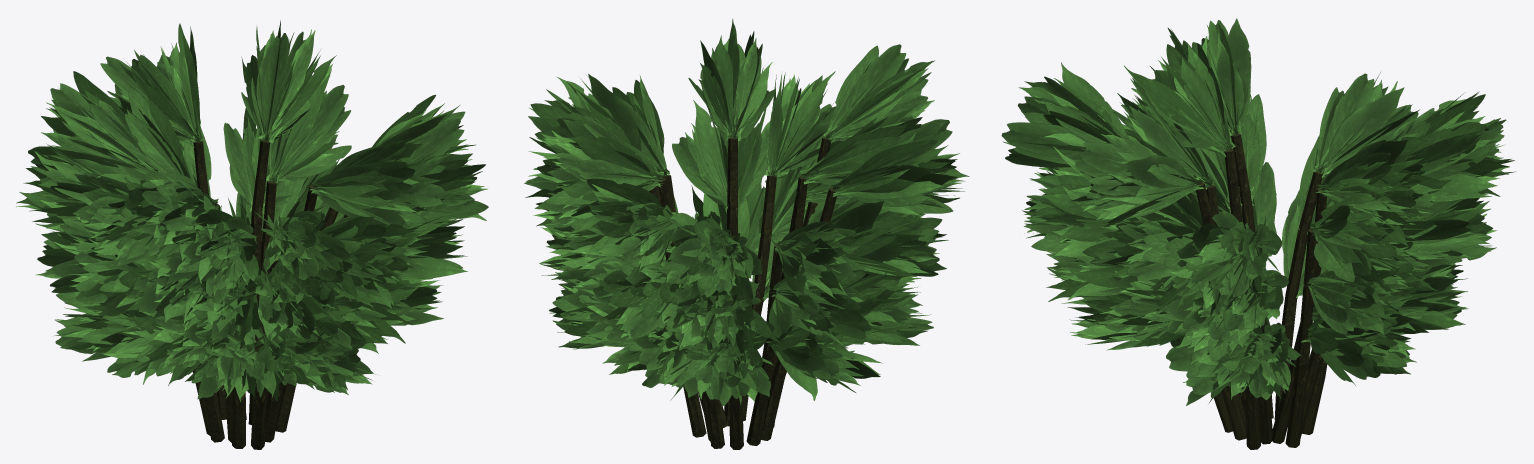
The model's file is understory_ginger_v01.glb.
3 views of the same model, side by side, from view 1: azimuth 30°, elevation 25°; view 2: azimuth 150°, elevation 25°; view 3: azimuth 270°, elevation 25° (orthographic). The views are drawn at different scales.
Visible parts, largest first — view 1: understory_ginger_v01; view 2: understory_ginger_v01; view 3: understory_ginger_v01.
Boxes of the visible parts, bbox=[...] form: understory_ginger_v01: bbox=[16, 20, 488, 449]; understory_ginger_v01: bbox=[524, 18, 969, 449]; understory_ginger_v01: bbox=[1001, 18, 1515, 449].
Bounding box in the file's own units: 1.24 × 0.9877 × 1.31.
2 materials, 2 textured.
